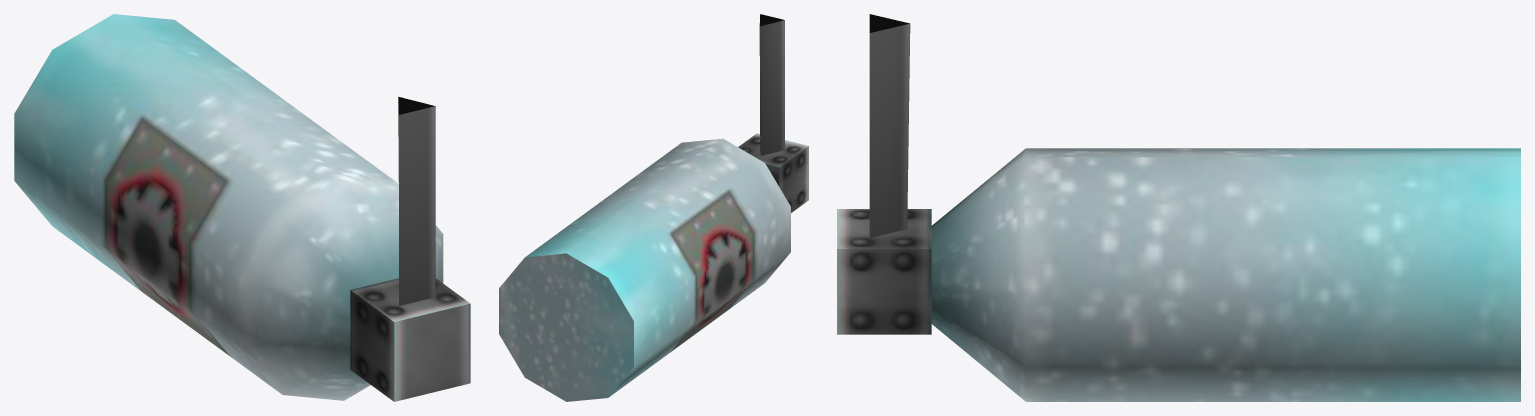
File: seltzer_bottle.glb
The picture shows the model from 3 angles, left to right: view 1: azimuth 30°, elevation 25°; view 2: azimuth 150°, elevation 25°; view 3: azimuth 270°, elevation 25°; orthographic projection. The views are drawn at different scales.
Visible parts, largest first — view 1: pCylinder1, pCube1, pCube2; view 2: pCylinder1, pCube2, pCube1; view 3: pCylinder1, pCube1, pCube2.
Boxes of the visible parts, x1,y1,x2,y2 form: pCylinder1: [14, 14, 443, 400]; pCube1: [350, 278, 470, 401]; pCube2: [398, 96, 435, 305]; pCylinder1: [499, 138, 790, 401]; pCube2: [759, 14, 784, 155]; pCube1: [738, 133, 808, 212]; pCylinder1: [931, 148, 1520, 401]; pCube1: [837, 209, 931, 334]; pCube2: [869, 14, 910, 238].
Size of the model in its own units: 0.8469 by 1.4 by 2.36.
Materials: 1 (1 with a texture image).
